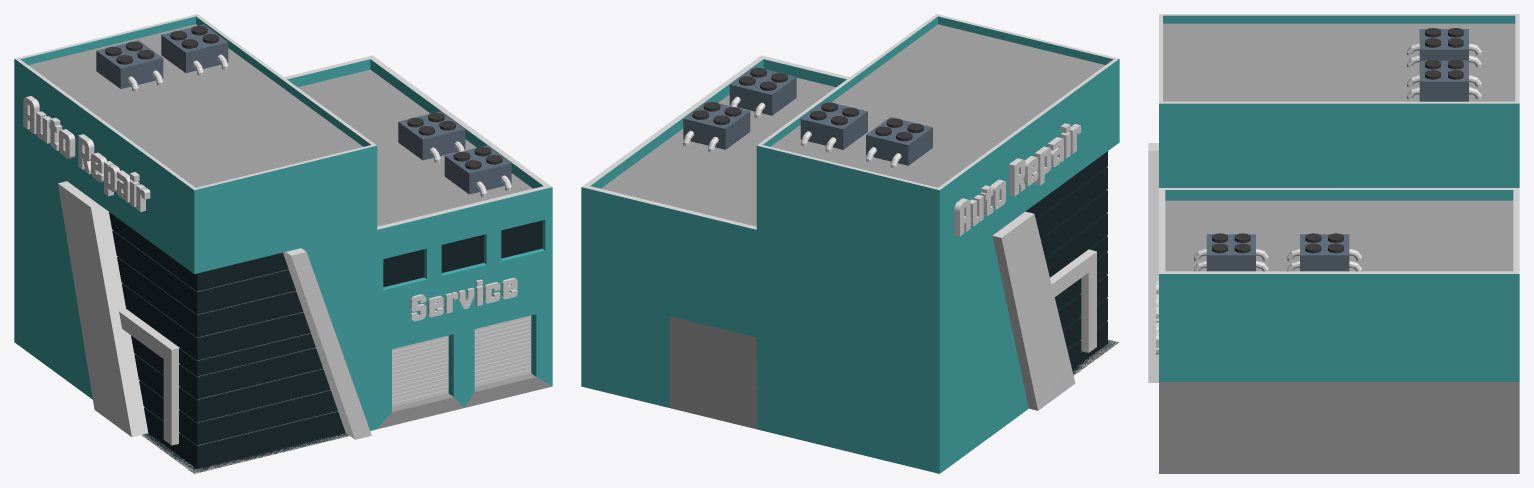
Rendered from 11 Auto_repaire.fbx.
The picture shows the model from 3 angles, left to right: view 1: azimuth 30°, elevation 25°; view 2: azimuth 150°, elevation 25°; view 3: azimuth 270°, elevation 25°; orthographic projection.
Visible parts, largest first — view 1: Auto_repaire; view 2: Auto_repaire; view 3: Auto_repaire.
Part boxes in pixels (x1=…): Auto_repaire: x1=14, y1=14, x2=552, y2=473; Auto_repaire: x1=581, y1=14, x2=1119, y2=473; Auto_repaire: x1=1148, y1=14, x2=1519, y2=473.
Bounding box in the file's own units: 201 × 156 × 175.
